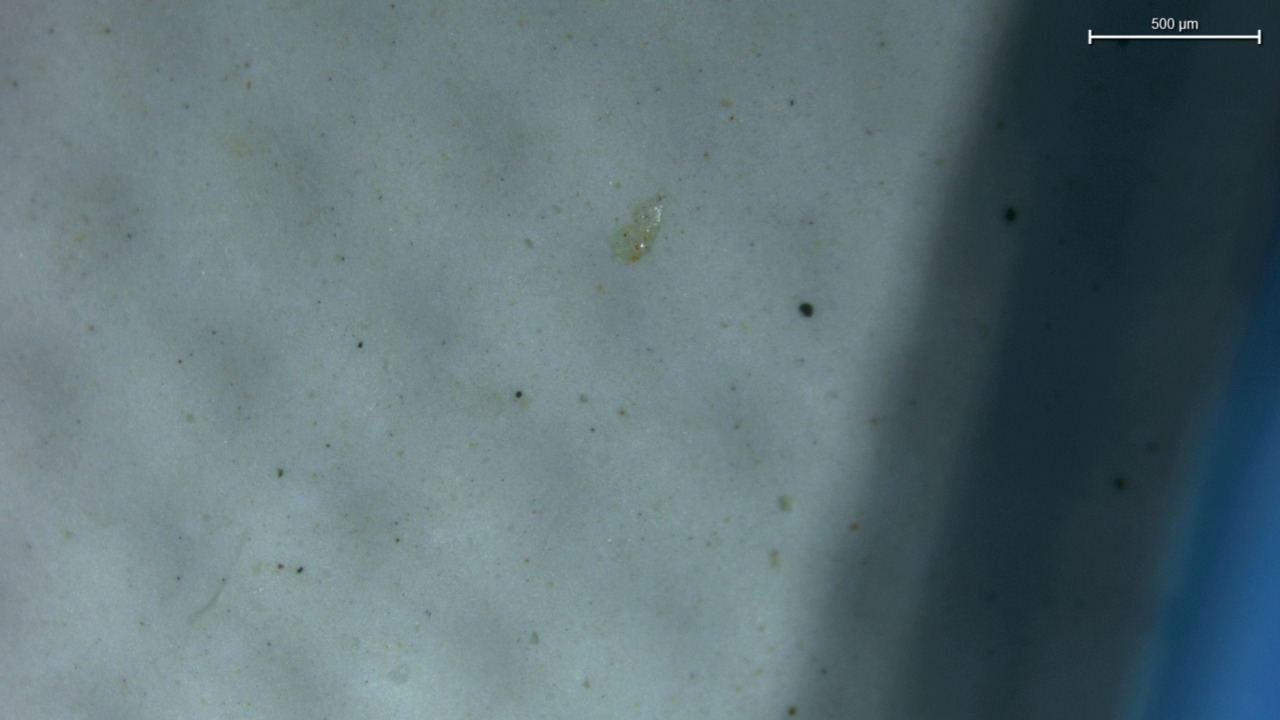microplastic_fragment: (613, 194, 664, 261)
